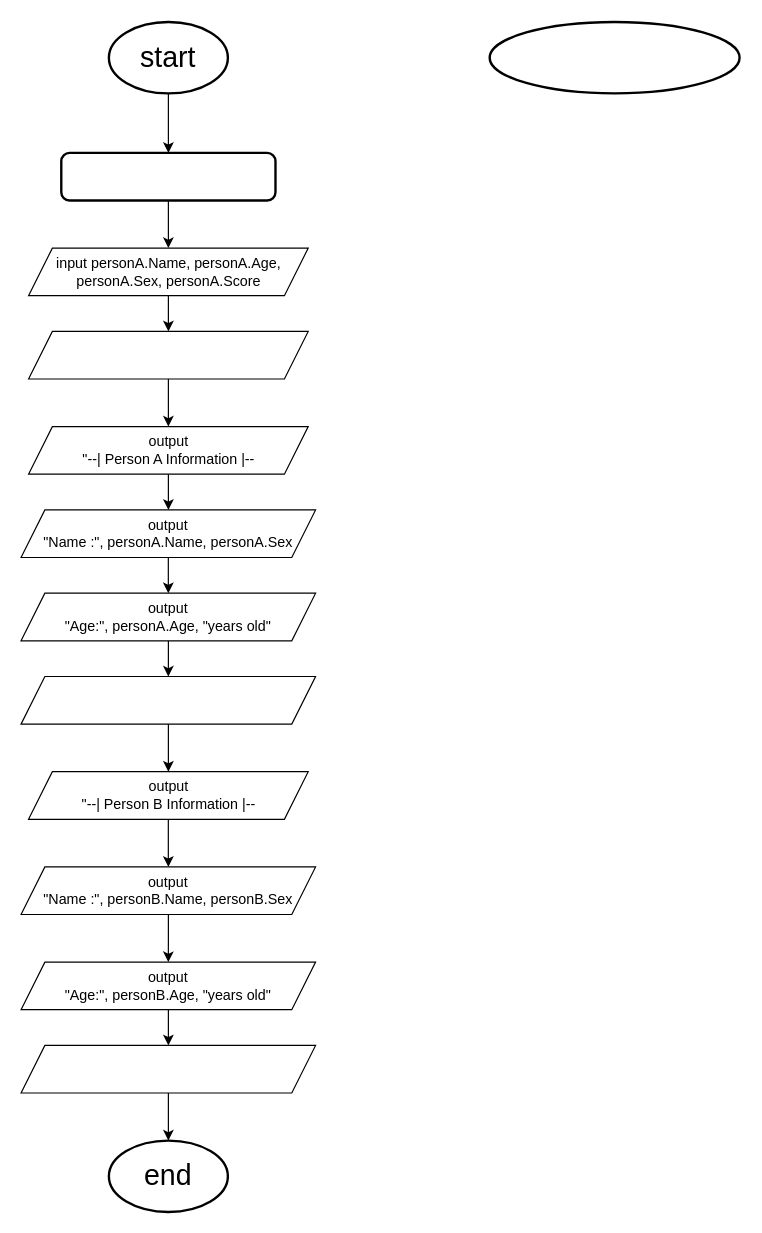
Image size: 762x1233. Some labels were removed from this diagram. Here are the shapes that lost their labels. From the top down, the centre of each, then its label:
(x=614, y=57): Person = { Name, Age, Sex, Score}
(x=168, y=176): Person personA, personB
(x=167, y=354): input personB.Name, personB.Age, personB.Sex, personB.Score
(x=168, y=699): output "Score:", personA.Score, "points"
(x=168, y=1068): output "Score:", personB.Score, "points"
